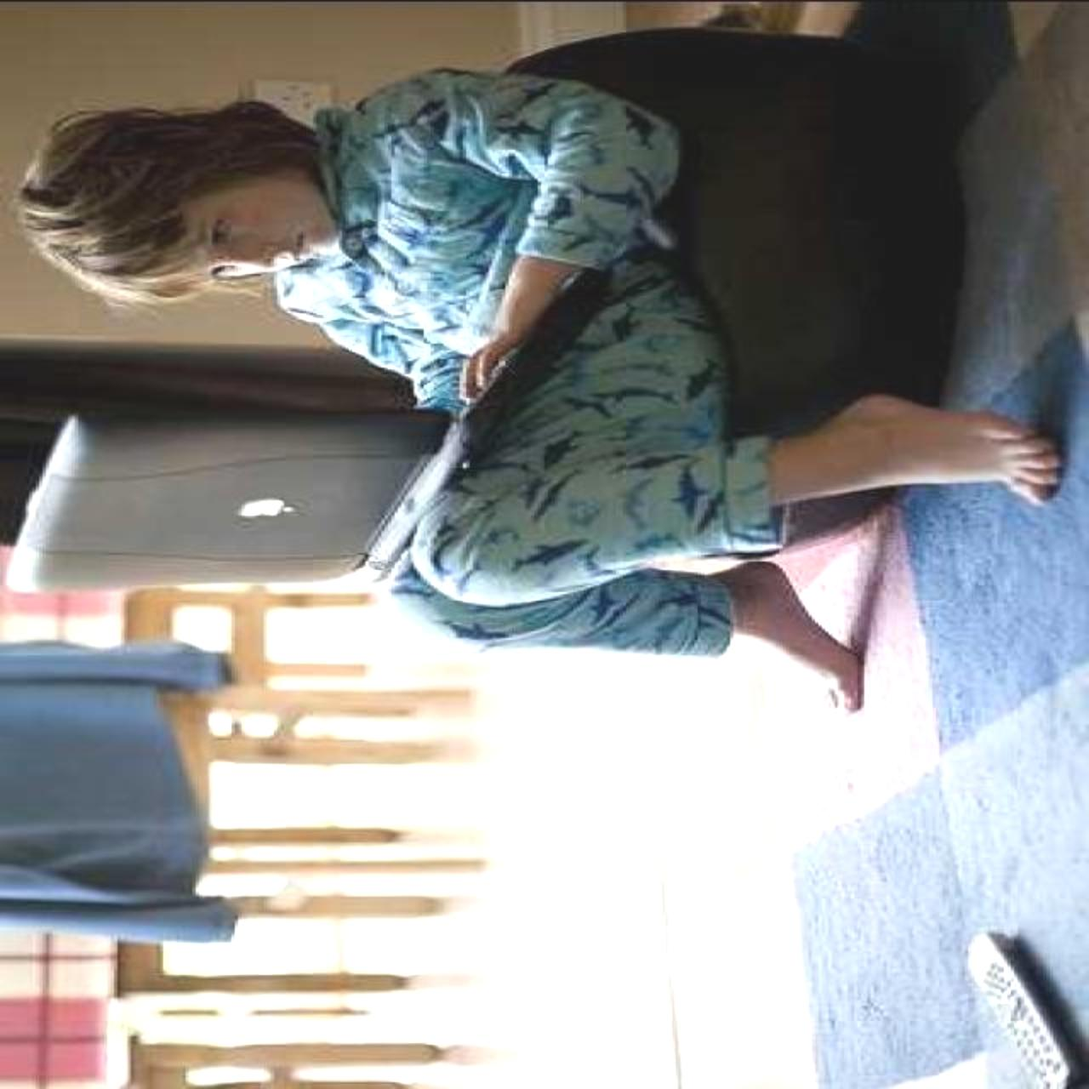laptop: (22, 264, 618, 594)
